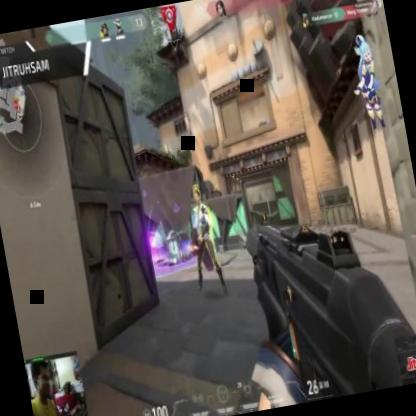enemy: (182, 181, 230, 302)
enemy_head: (191, 187, 201, 205)
